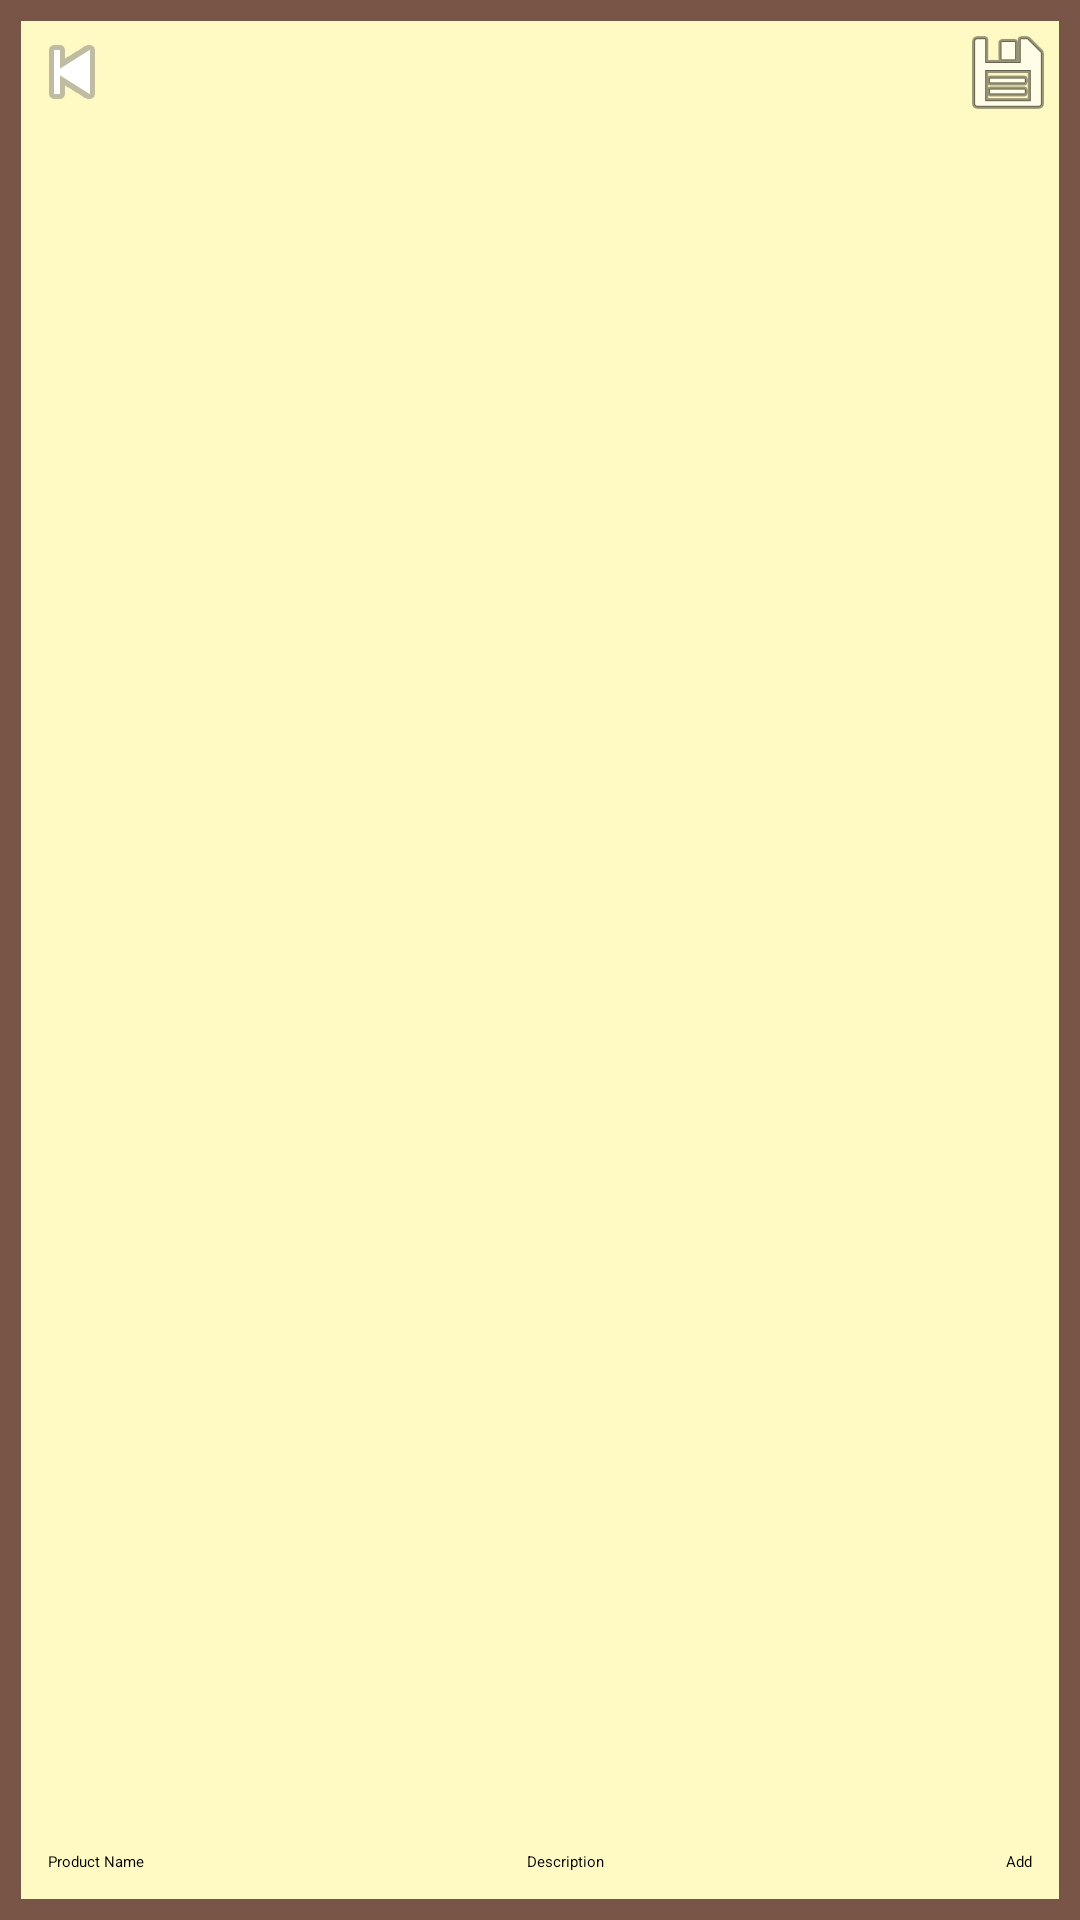

Screen size 1080*1920. Icon name, then its center in pixels as point (x, y):
Back: point (72, 72)
